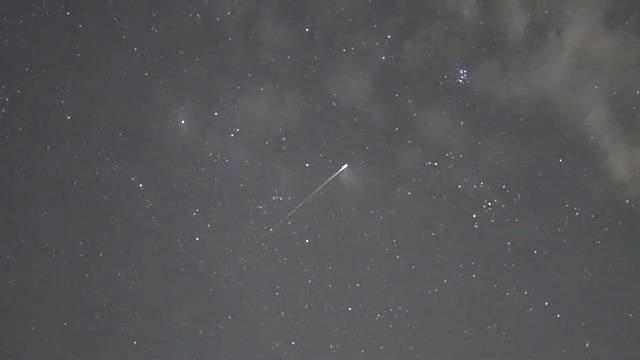meteorite: (258, 155, 359, 235)
